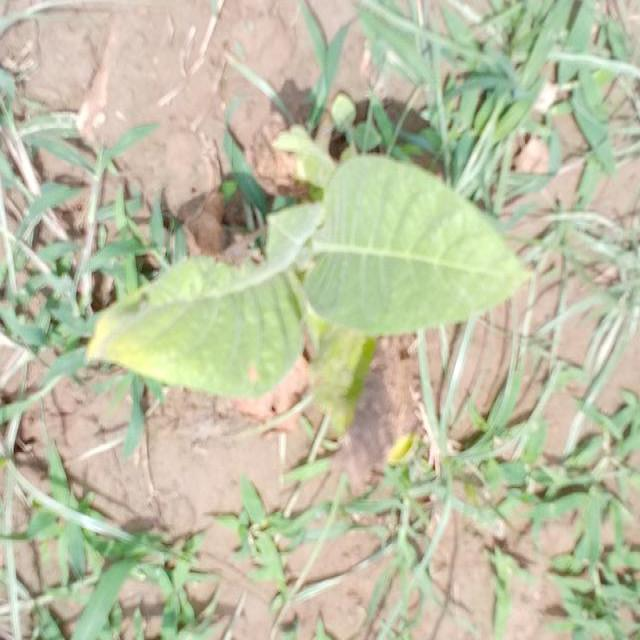crop: (110, 146, 514, 409)
